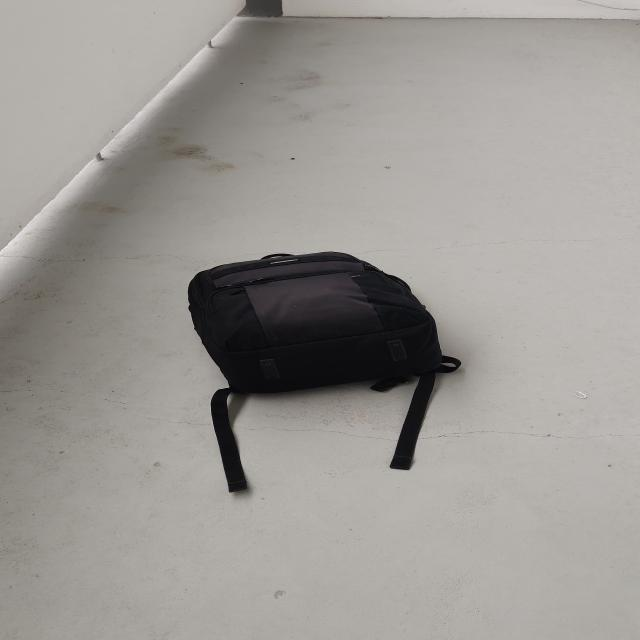backpack: (175, 246, 453, 403)
